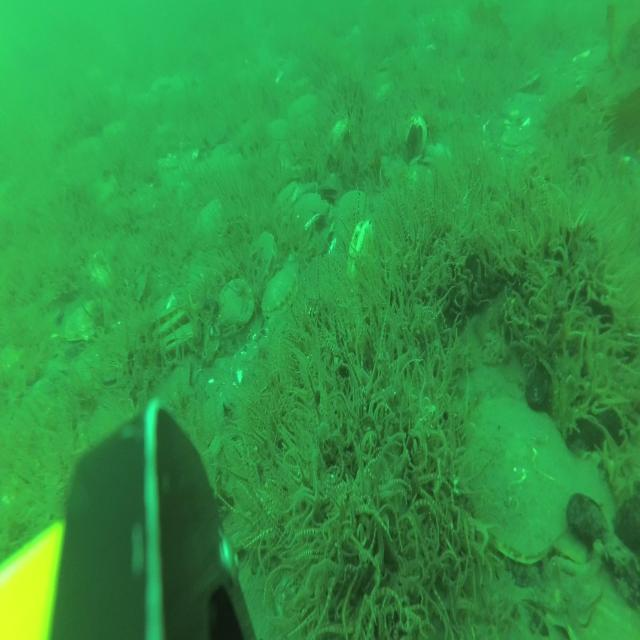scallop: (466, 389, 570, 563), (552, 451, 614, 563), (566, 556, 640, 640), (548, 529, 604, 612), (86, 393, 132, 452), (302, 254, 346, 306), (66, 298, 110, 345), (289, 196, 323, 244), (217, 279, 251, 326), (248, 227, 278, 278), (263, 267, 297, 310), (337, 189, 367, 236), (198, 202, 228, 247), (160, 322, 196, 357), (274, 178, 300, 222), (150, 306, 183, 340), (329, 115, 350, 156), (501, 126, 530, 153), (268, 119, 289, 148)
